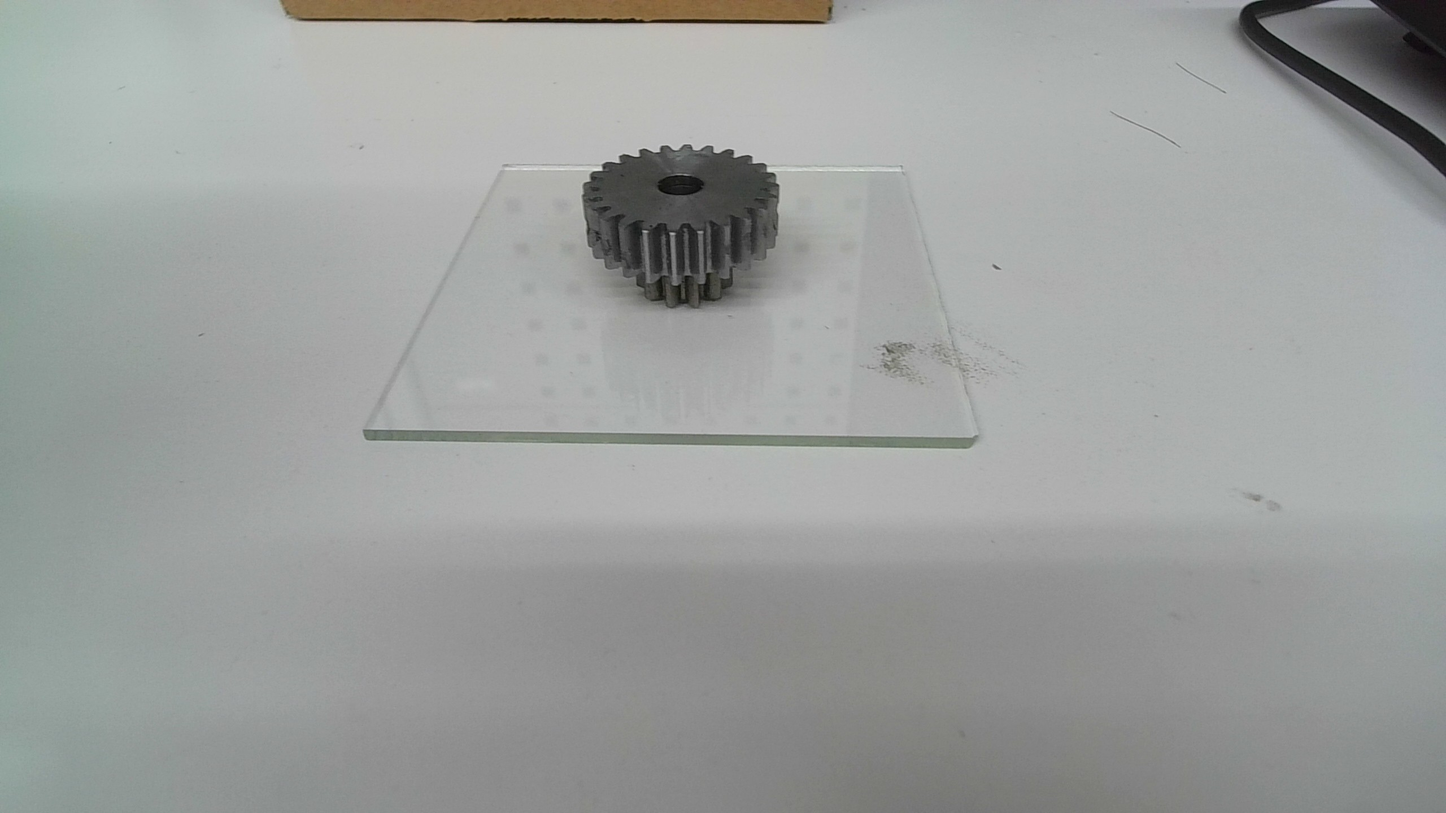gear: (579, 139, 785, 311)
